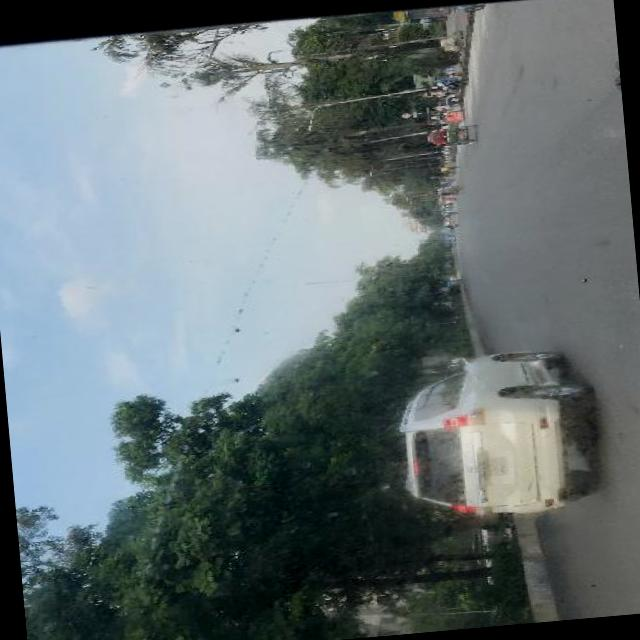car: (380, 342, 606, 526)
motorcycle: (424, 122, 480, 146), (432, 182, 462, 195), (442, 76, 468, 90)
